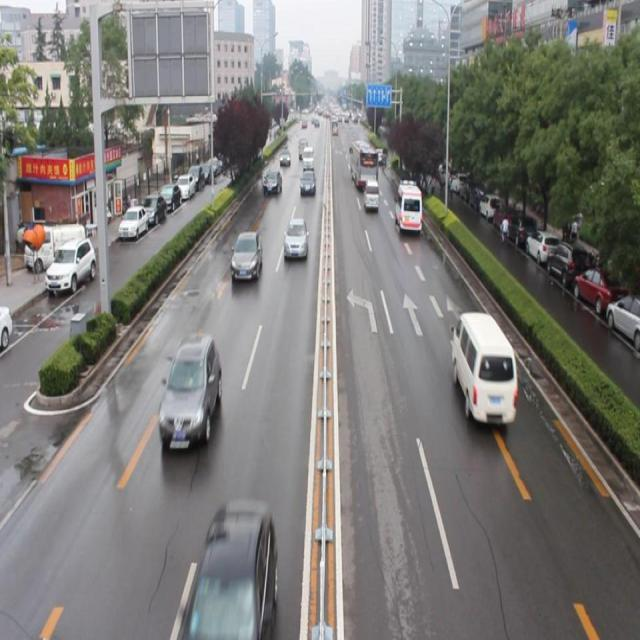car: (183, 496, 278, 640), (158, 332, 223, 450), (228, 229, 262, 284), (282, 216, 308, 260), (261, 162, 282, 196), (296, 167, 315, 193)
truck: (450, 304, 518, 432), (392, 178, 422, 238), (360, 178, 378, 215)
